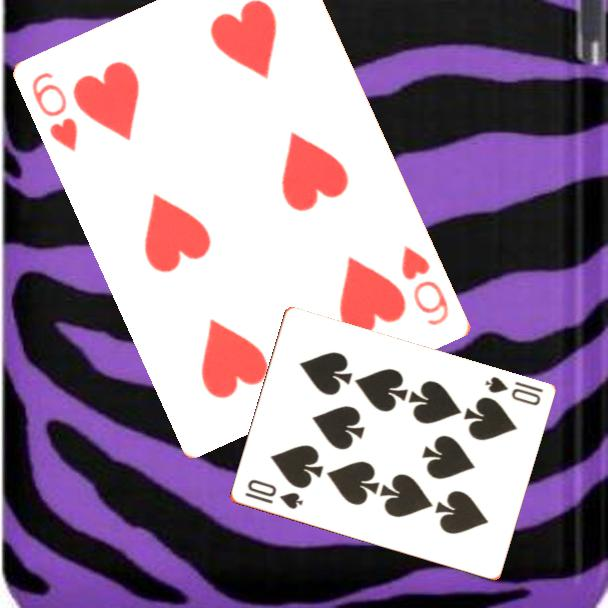h06: (398, 242, 453, 329), (29, 69, 82, 155)
s10: (481, 373, 546, 409), (241, 476, 305, 512)
